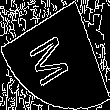M_NE: (30, 23, 80, 87)
